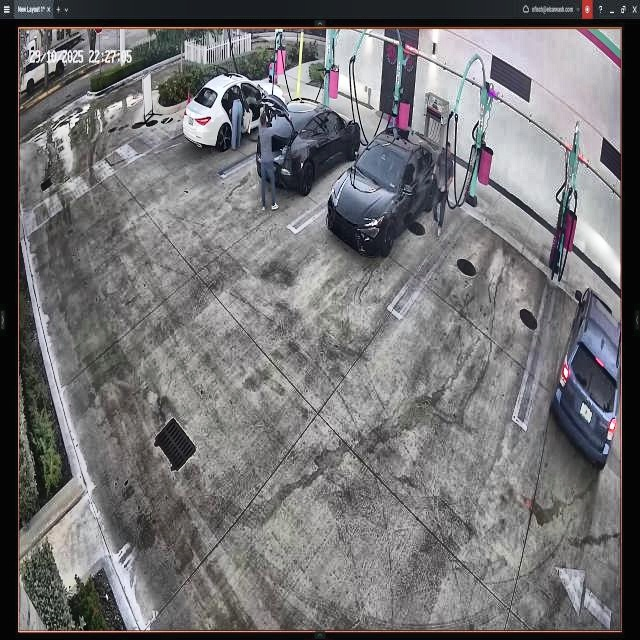Car: (328, 126, 444, 255), (258, 94, 360, 192), (181, 73, 286, 154)
